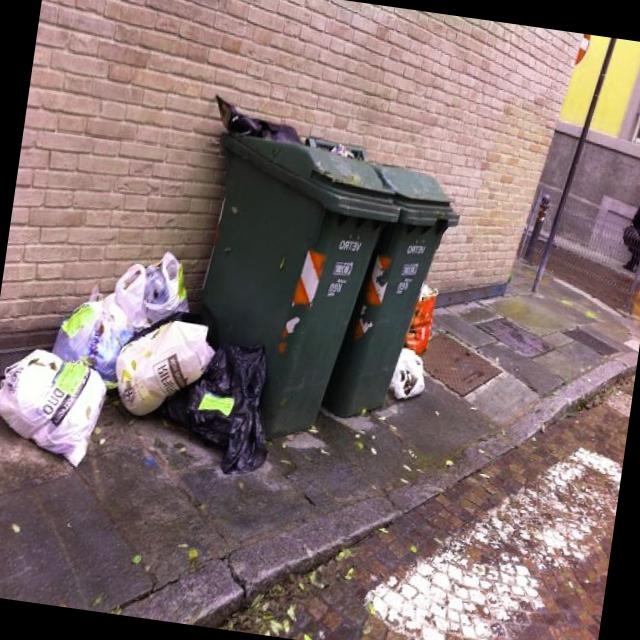high trash: (0, 254, 267, 473)
